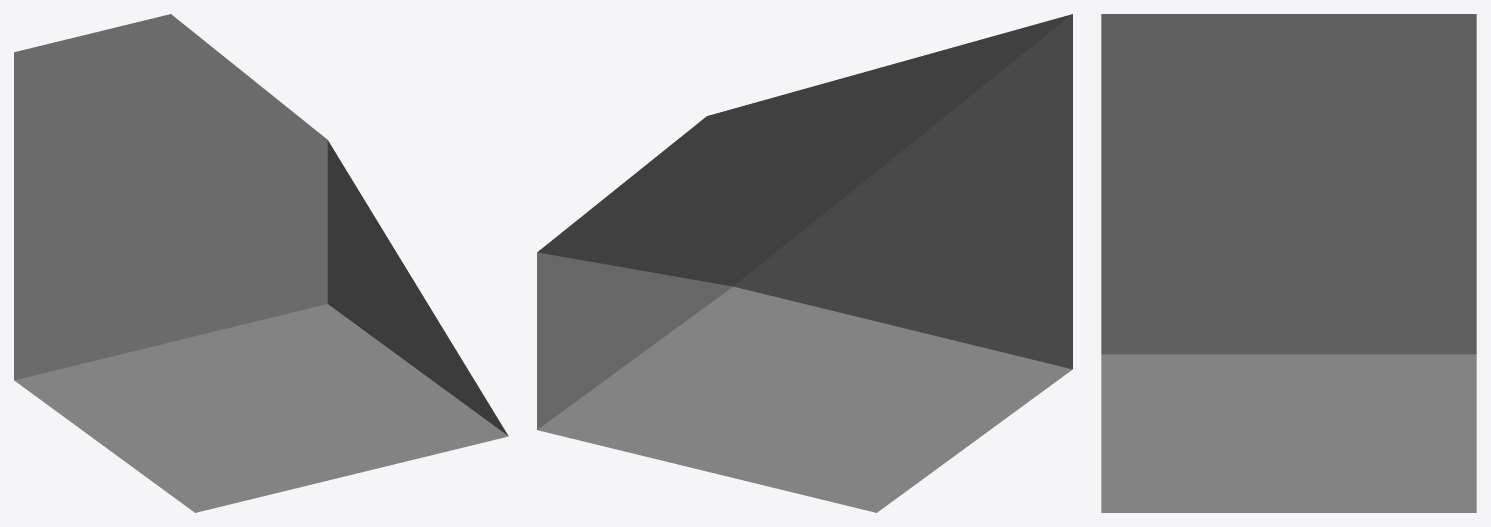
Rendered from r5c3_border_grey.gltf.
The picture shows the model from 3 angles, left to right: view 1: azimuth 30°, elevation 25°; view 2: azimuth 150°, elevation 25°; view 3: azimuth 270°, elevation 25°; orthographic projection. The views are drawn at different scales.
Parts seen in each view (by area): view 1: r5c3_border_grey; view 2: r5c3_border_grey; view 3: r5c3_border_grey.
Part boxes in pixels (box(x1,y1,x2,y2)): r5c3_border_grey: box(14, 14, 508, 512); r5c3_border_grey: box(537, 14, 1072, 512); r5c3_border_grey: box(1101, 14, 1476, 512).
Bounding box in the file's own units: 2.1 × 2.1 × 2.1.
1 material, 1 textured.
